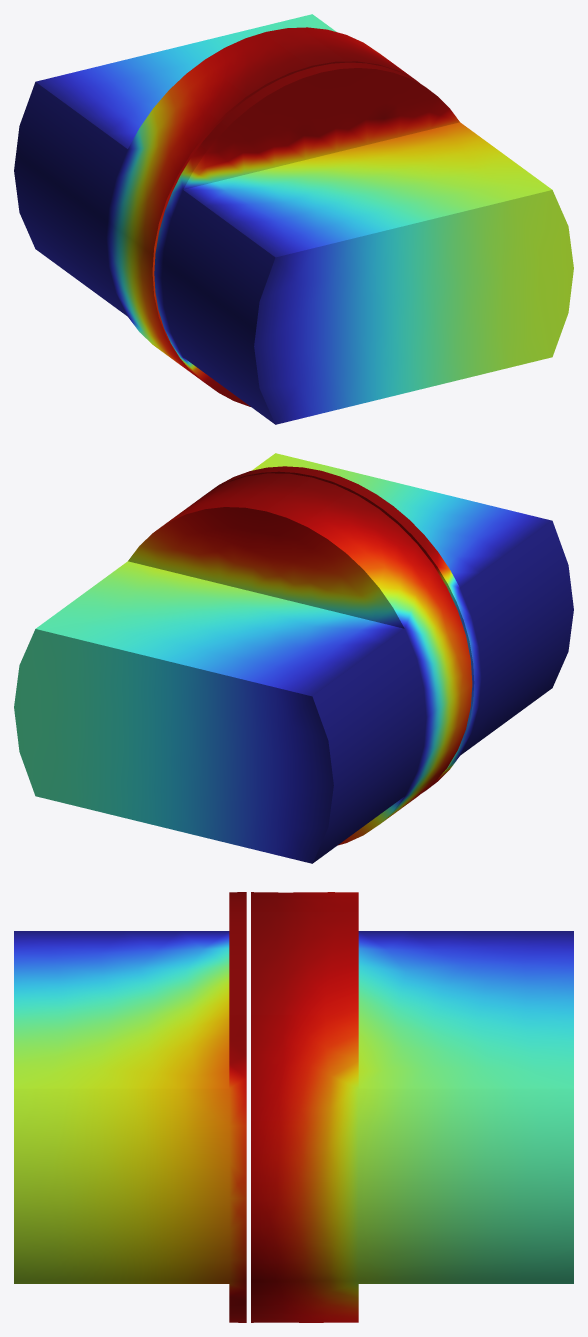
File: PilaN2-H20_mh2-2.70_V-0.7.glb
3 views of the same model, one above another, from view 1: azimuth 30°, elevation 25°; view 2: azimuth 150°, elevation 25°; view 3: azimuth 270°, elevation 25° (orthographic). The views are drawn at different scales.
Bounding box in the file's own units: 0.001 × 0.001 × 0.0013.
2 materials, 2 textured.
